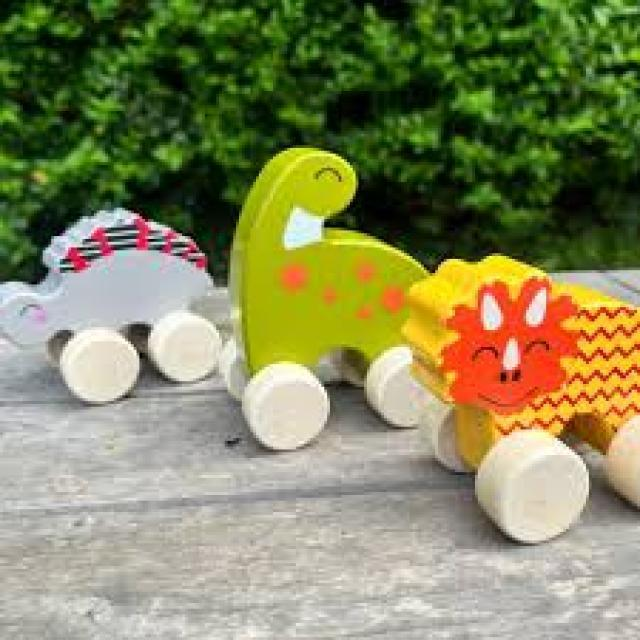hard-toy: (405, 256, 640, 544), (222, 149, 430, 450), (1, 210, 221, 404)
